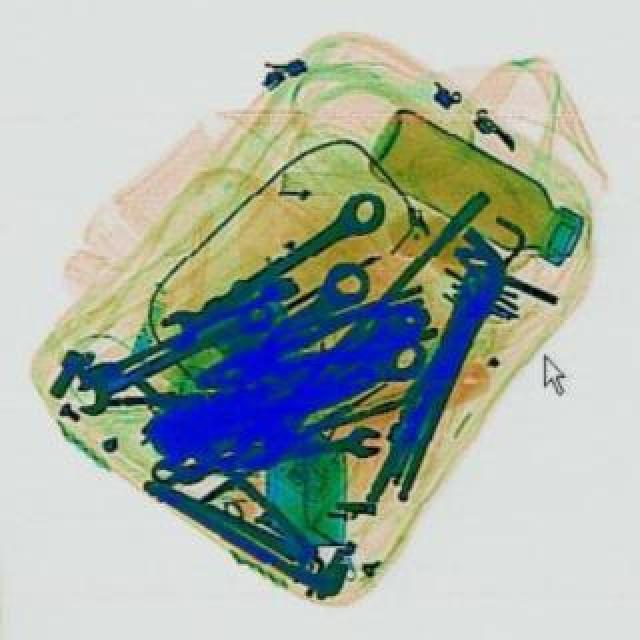scissors: (148, 182, 396, 354), (64, 292, 278, 420), (146, 422, 382, 486)
wrench: (184, 280, 440, 410)
